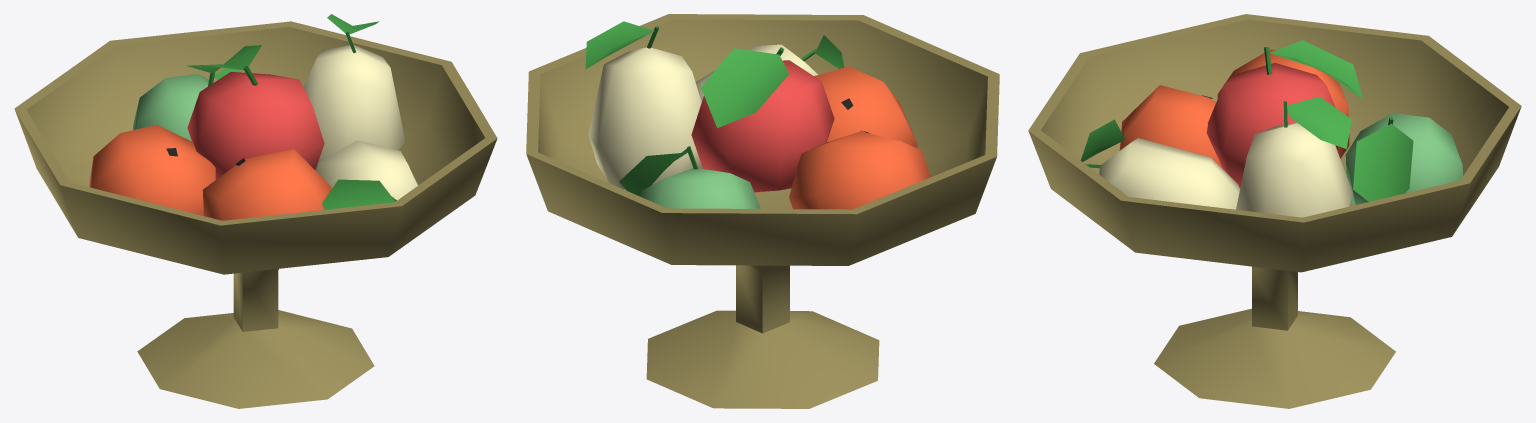
3 views of the same model, side by side, from view 1: azimuth 30°, elevation 25°; view 2: azimuth 150°, elevation 25°; view 3: azimuth 270°, elevation 25° (orthographic). The views are drawn at different scales.
Parts seen in each view (by area): view 1: prop_039; view 2: prop_039; view 3: prop_039.
Part boxes in pixels (bbox=[...]): prop_039: bbox=[14, 14, 497, 408]; prop_039: bbox=[526, 14, 999, 408]; prop_039: bbox=[1028, 14, 1521, 408].
Bounding box in the file's own units: 0.3897 × 0.268 × 0.3897.
Materials: 2 (1 with a texture image).
